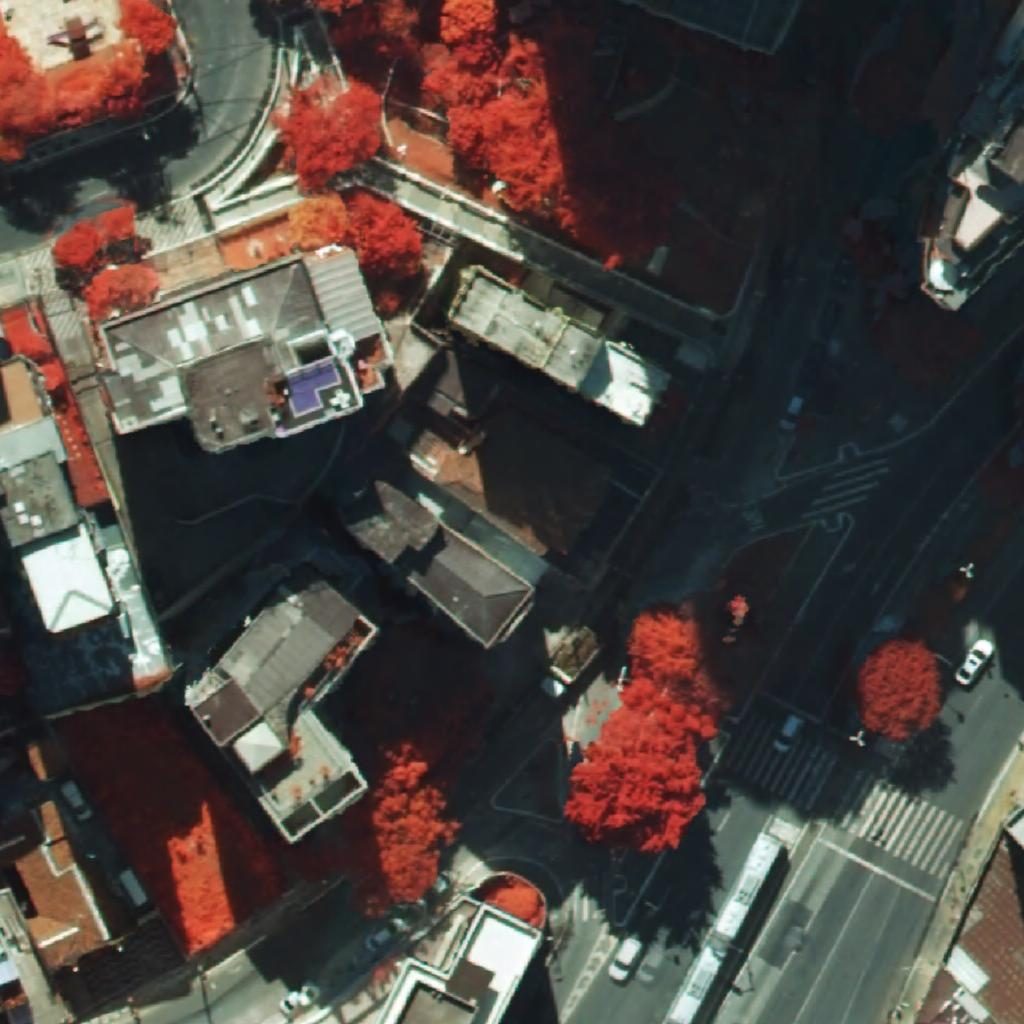pool: (287, 364, 338, 414)
